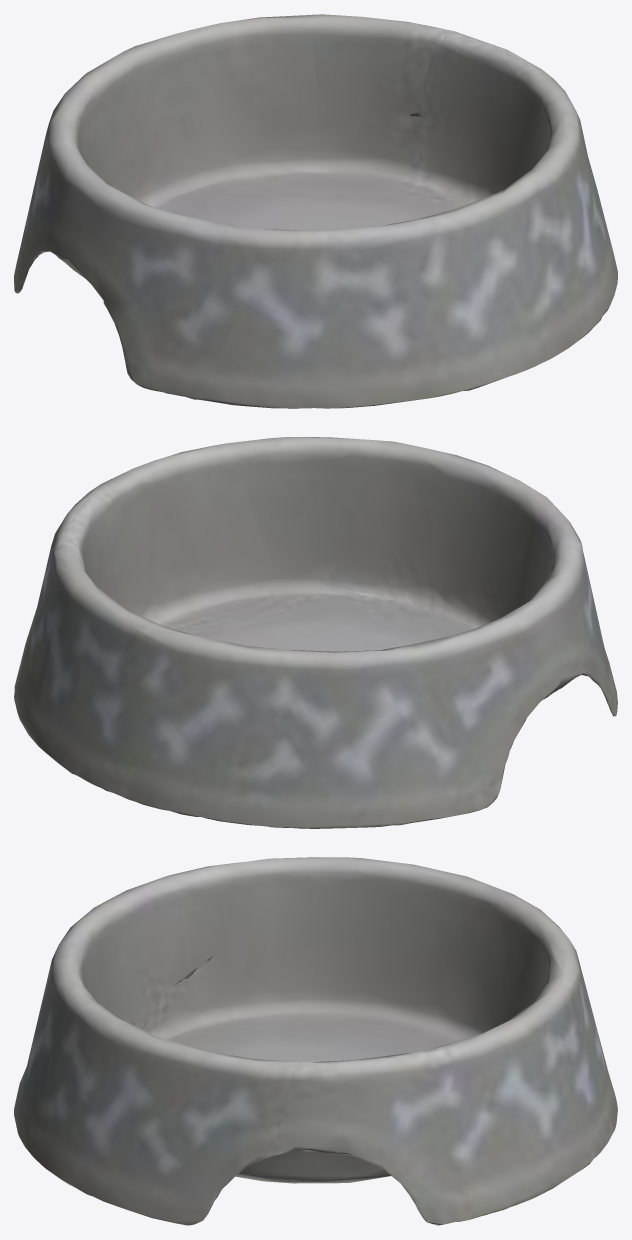
The model's file is gso_grreatv_choice_dog_bowl_gray_bones_plastic_20_fl_oz_total.glb.
The picture shows the model from 3 angles, top to bottom: view 1: azimuth 30°, elevation 25°; view 2: azimuth 150°, elevation 25°; view 3: azimuth 270°, elevation 25°; orthographic projection.
Parts seen in each view (by area): view 1: z-up-to-y-up; view 2: z-up-to-y-up; view 3: z-up-to-y-up.
Boxes of the visible parts, x1,y1,x2,y2 form: z-up-to-y-up: [14, 14, 617, 408]; z-up-to-y-up: [14, 437, 617, 828]; z-up-to-y-up: [14, 857, 617, 1225].
Bounding box in the file's own units: 0.1708 × 0.0538 × 0.1835.
Materials: 1 (1 with a texture image).
